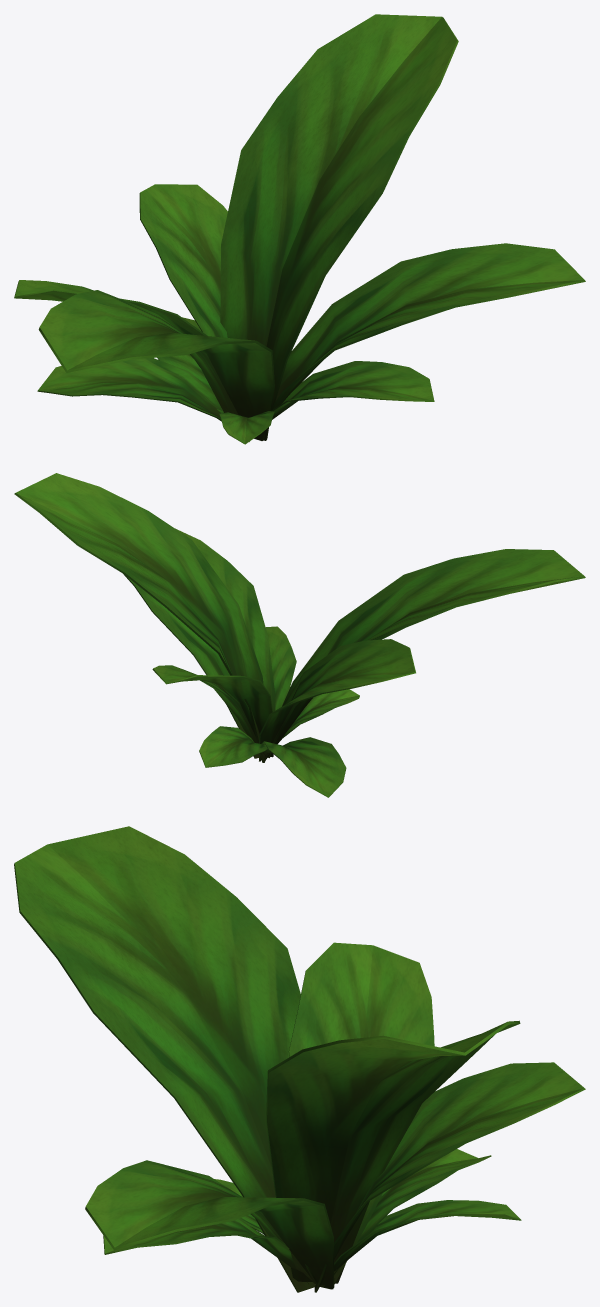
The model's file is JunglePlant_small.glb.
3 views of the same model, one above another, from view 1: azimuth 30°, elevation 25°; view 2: azimuth 150°, elevation 25°; view 3: azimuth 270°, elevation 25° (orthographic). The views are drawn at different scales.
Parts seen in each view (by area): view 1: PlantSmall; view 2: PlantSmall; view 3: PlantSmall.
Boxes of the visible parts, x1,y1,x2,y2 form: PlantSmall: (14,14,585,444); PlantSmall: (14,473,585,797); PlantSmall: (14,826,585,1292).
Bounding box in the file's own units: 0.7797 × 0.4366 × 0.5744.
Materials: 1 (1 with a texture image).
